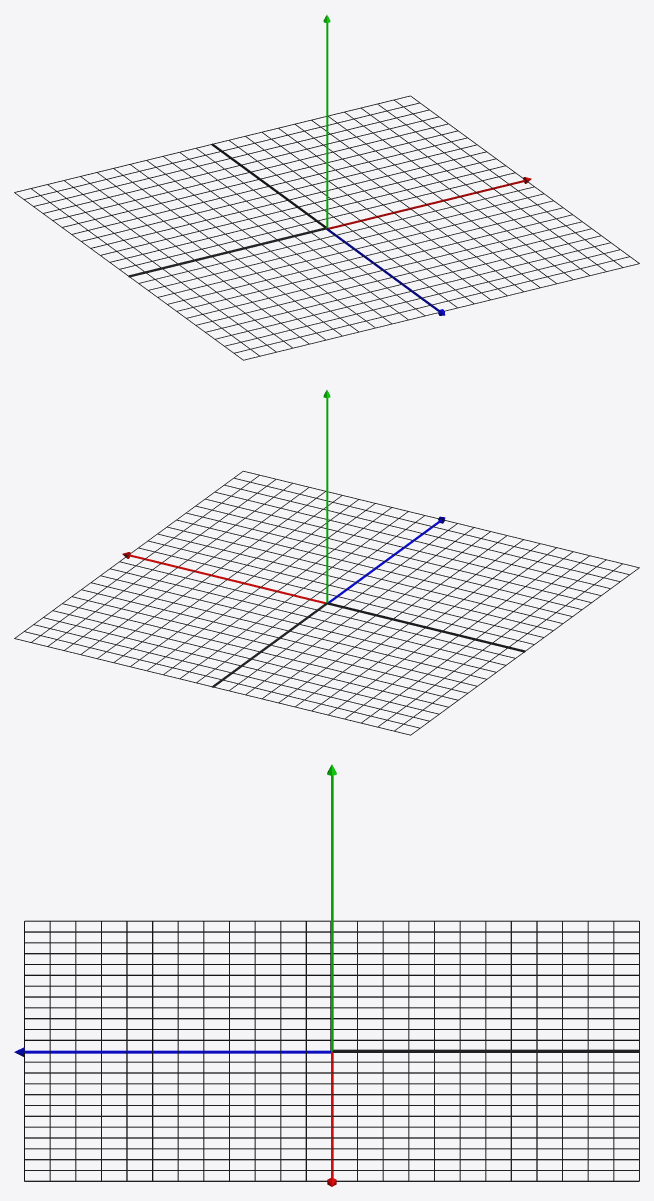
3 views of the same model, one above another, from view 1: azimuth 30°, elevation 25°; view 2: azimuth 150°, elevation 25°; view 3: azimuth 270°, elevation 25° (orthographic). The views are drawn at different scales.
Visible parts, largest first — view 1: CoordinateGrid; view 2: CoordinateGrid; view 3: CoordinateGrid.
Boxes of the visible parts, x1,y1,x2,y2 form: CoordinateGrid: (14, 15, 639, 360); CoordinateGrid: (14, 390, 639, 735); CoordinateGrid: (14, 764, 639, 1186).
Bounding box in the file's own units: 24.43 × 12.62 × 24.43.
